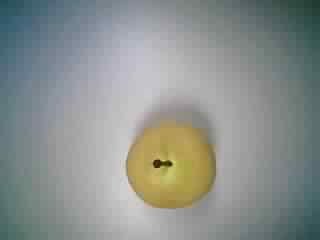pear: (110, 115, 226, 215)
